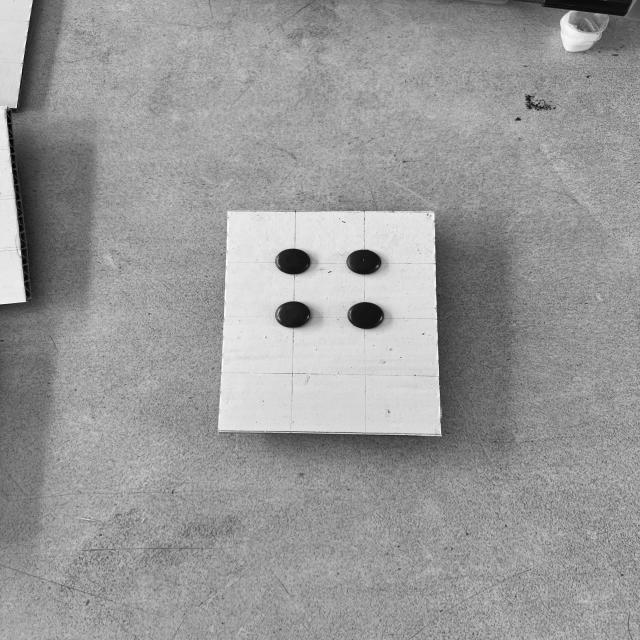braiile: (223, 209, 434, 427)
